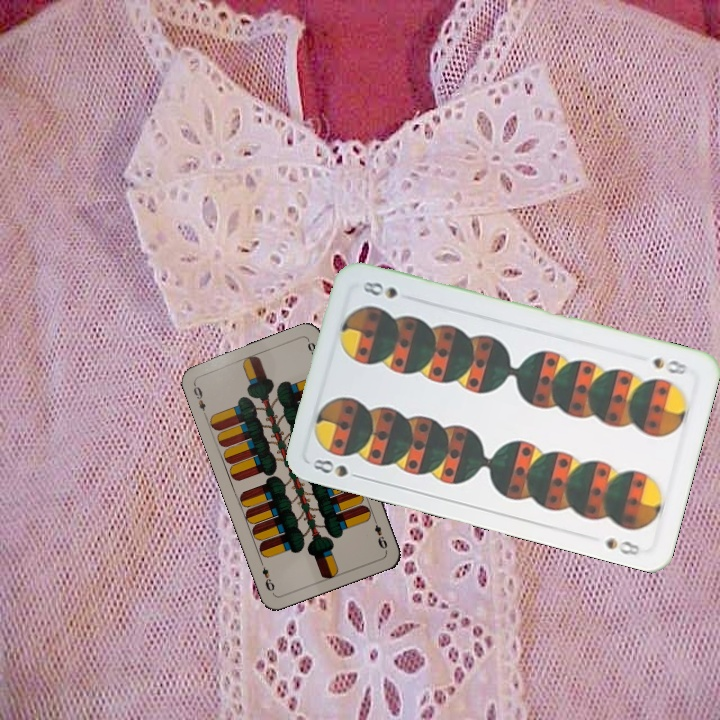E9: (189, 379, 209, 419), (369, 514, 390, 552)
S8: (309, 455, 367, 482), (649, 353, 691, 378)
